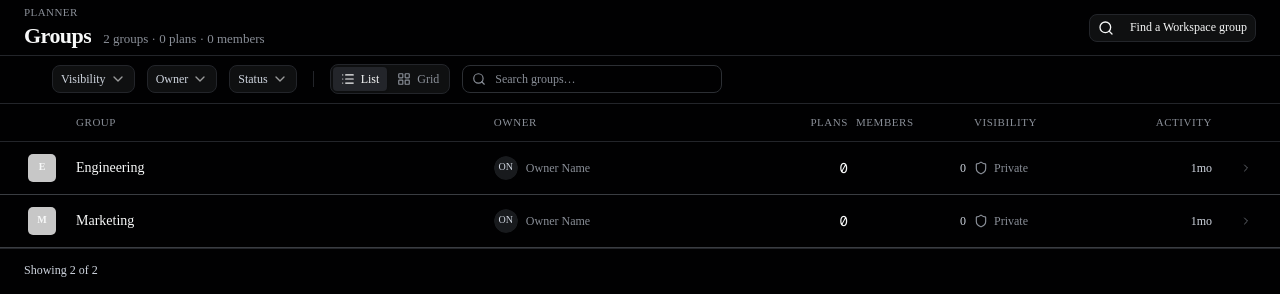
GroupsPage › filters by search input (debounced 250ms)
Expected: the text "Engineering" is shown, [76,160,144,174]
Expected: the text "Marketing" is shown, [76,212,134,228]
Type "engin" into the search field with placeholder "Search groups…" at (592, 79), box [462,65,722,93]
Wait 250 ms
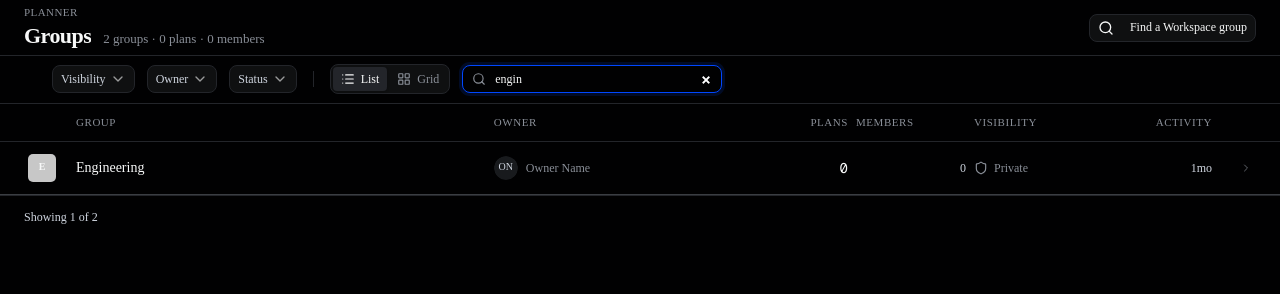
Expected: the text "Engineering" is shown, [76,160,144,174]
Expected: the link "Marketing" is gone
